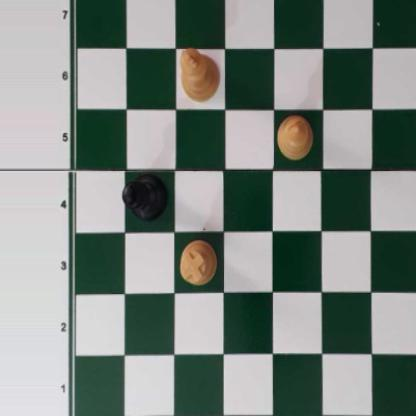black-king: (121, 175, 171, 220)
white-bishop: (277, 114, 311, 160)
white-king: (182, 44, 217, 102)
white-rook: (178, 239, 217, 284)
